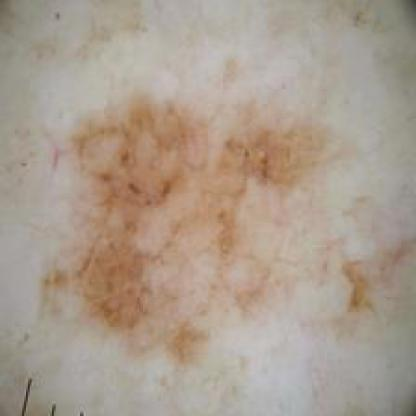malignant: (63, 97, 314, 336)
